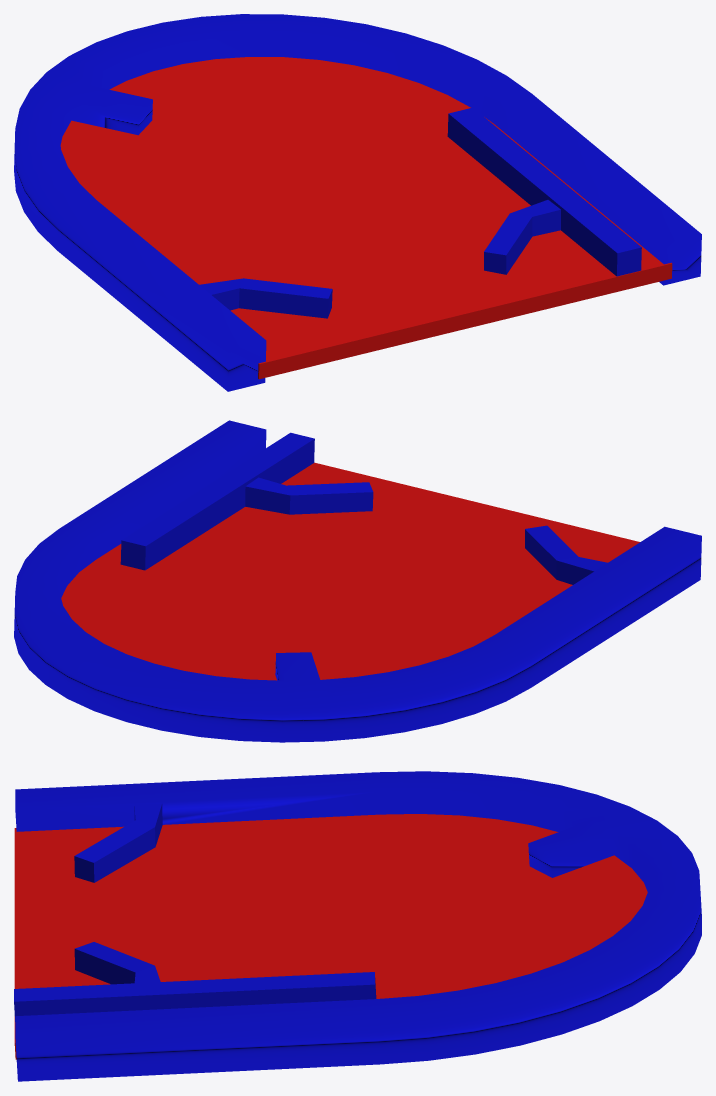
File: PibBallTable.obj
The picture shows the model from 3 angles, top to bottom: view 1: azimuth 30°, elevation 25°; view 2: azimuth 150°, elevation 25°; view 3: azimuth 270°, elevation 25°; orthographic projection. The views are drawn at different scales.
Parts seen in each view (by area): view 1: Куб.001; view 2: Куб.001; view 3: Куб.001.
Boxes of the visible parts, x1,y1,x2,y2 form: Куб.001: (14,14,701,391); Куб.001: (14,420,701,742); Куб.001: (14,771,701,1081).
Bounding box in the file's own units: 11.45 × 1.7 × 13.52.
